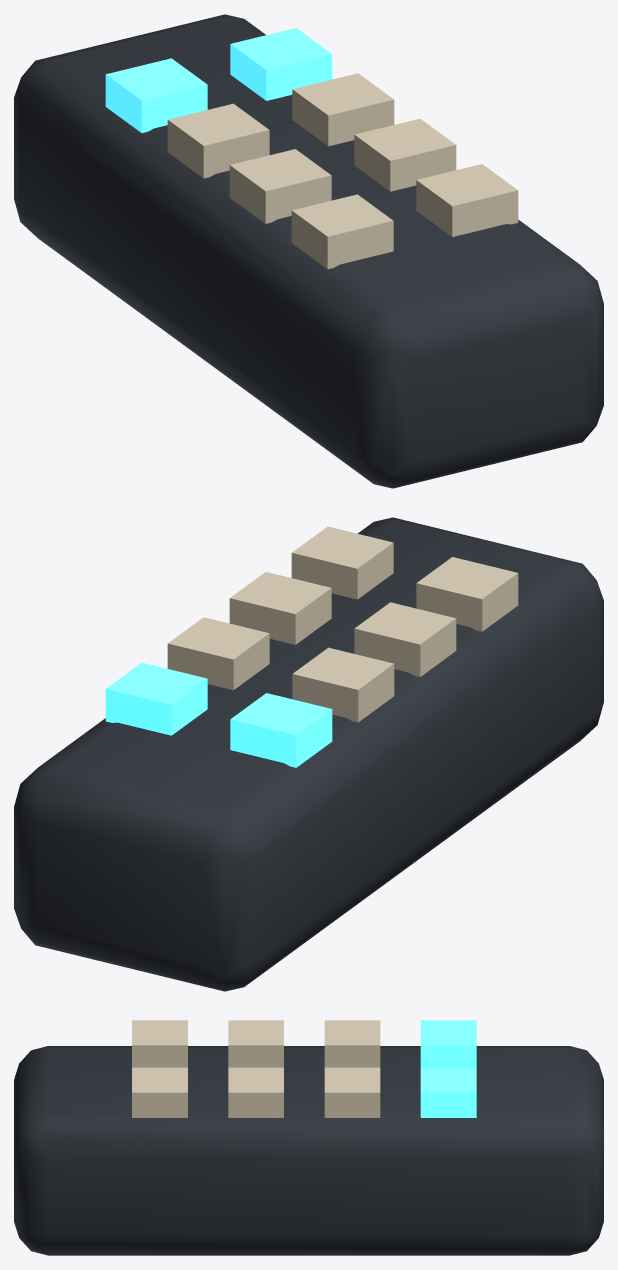
File: remote.glb
3 renders of one model, top to bottom at view 1: azimuth 30°, elevation 25°; view 2: azimuth 150°, elevation 25°; view 3: azimuth 270°, elevation 25°, orthographic. The views are drawn at different scales.
Parts seen in each view (by area): view 1: root_charcoal, root_cream, root_blue; view 2: root_charcoal, root_cream, root_blue; view 3: root_charcoal, root_cream, root_blue.
Boxes of the visible parts, box(x1,y1,x2,y2) form: root_charcoal: box(14, 14, 603, 488); root_cream: box(167, 73, 518, 269); root_blue: box(105, 28, 332, 132); root_charcoal: box(14, 517, 603, 991); root_cream: box(167, 526, 518, 722); root_blue: box(105, 662, 332, 767); root_charcoal: box(14, 1046, 603, 1255); root_cream: box(132, 1020, 380, 1117); root_blue: box(420, 1020, 476, 1117).
Size of the model in its own units: 0.07 by 0.0585 by 0.19.
